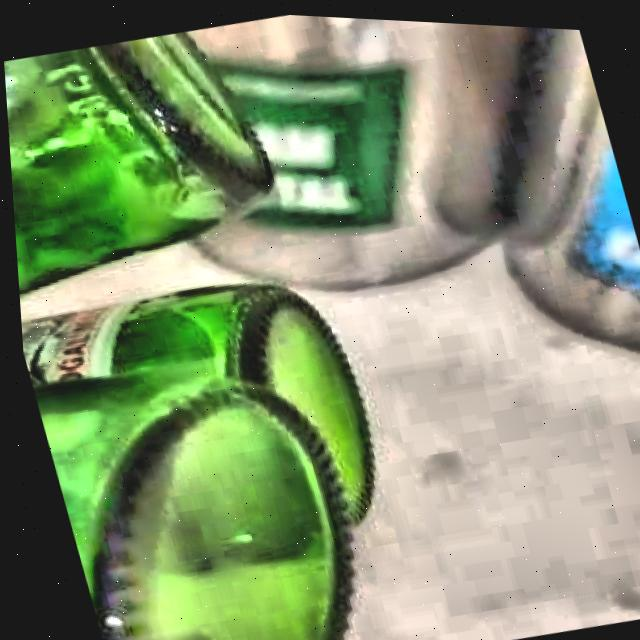glass: (17, 283, 368, 640)
